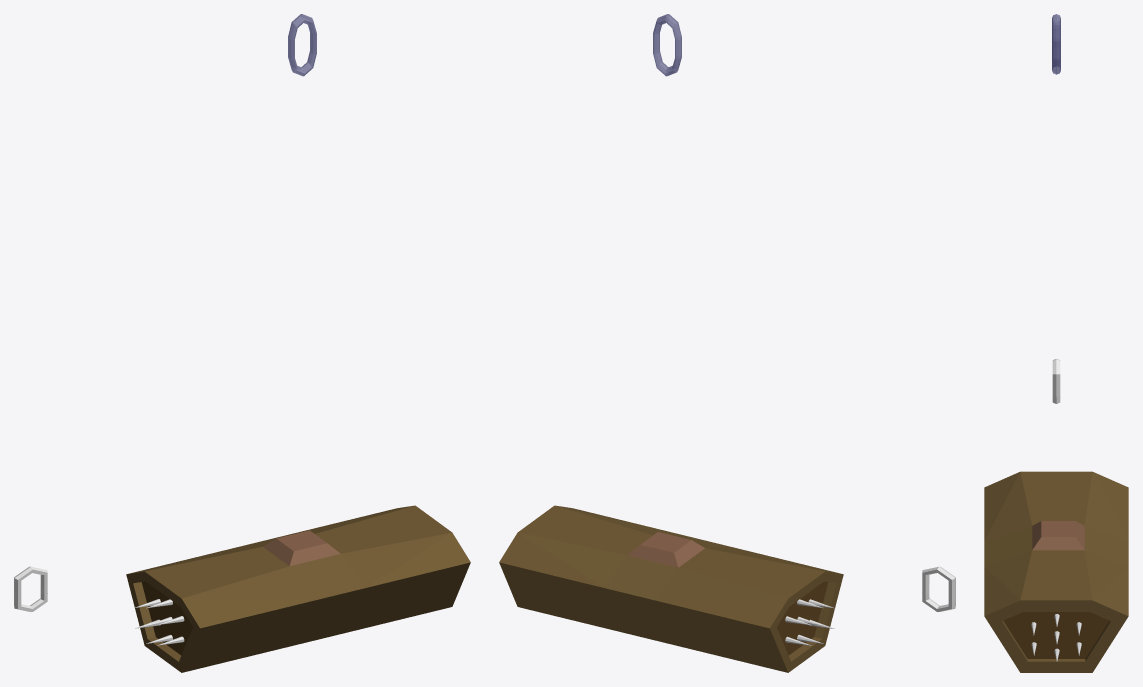
The model's file is swinging log.dae.
3 renders of one model, left to right at view 1: azimuth 30°, elevation 25°; view 2: azimuth 150°, elevation 25°; view 3: azimuth 270°, elevation 25°, orthographic. The views are drawn at different scales.
Parts seen in each view (by area): view 1: Cylinder, Torus.001, Torus; view 2: Cylinder, Torus.001, Torus; view 3: Cylinder, Torus.001, Torus.
Part boxes in pixels (bbox=[...]): Cylinder: bbox=[126, 505, 470, 672]; Torus.001: bbox=[288, 14, 316, 76]; Torus: bbox=[14, 566, 47, 611]; Cylinder: bbox=[499, 505, 843, 672]; Torus.001: bbox=[653, 14, 681, 76]; Torus: bbox=[922, 566, 955, 611]; Cylinder: bbox=[984, 471, 1128, 672]; Torus.001: bbox=[1052, 14, 1060, 74]; Torus: bbox=[1052, 359, 1060, 403].
Size of the model in its own units: 4.91 by 1.44 by 6.55.
